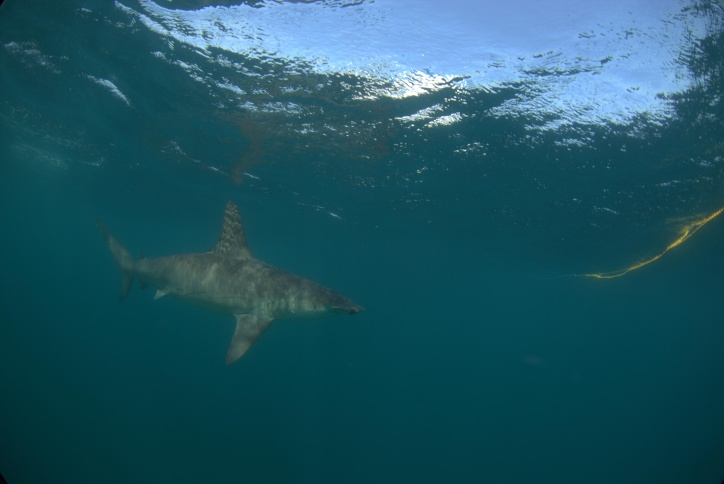Hammer: (84, 194, 479, 402), (312, 160, 674, 373)
